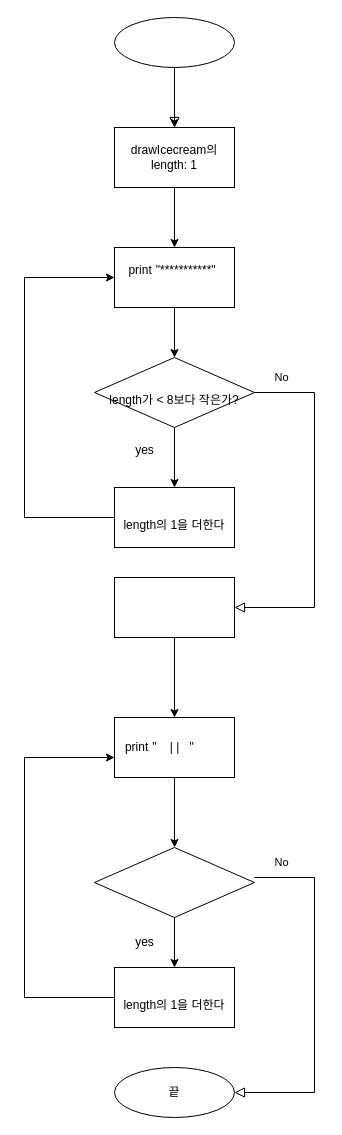
Image size: 342x1135. Some labels were removed from this diagram. The centre of each missing label's shape, as x and y in pixels:
"drawStick의 length: 1" goes at (174,607).
"length가 < 4보다 작은가?" goes at (174,882).
"시작" goes at (174,42).
